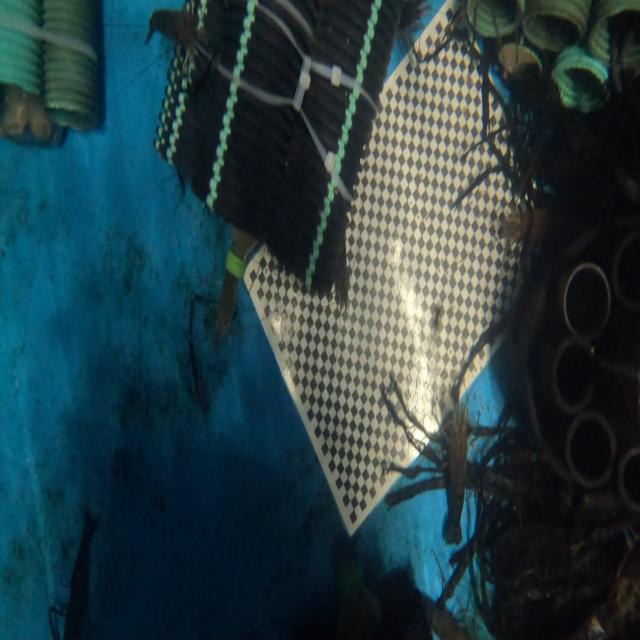prawn: (438, 404, 468, 544), (64, 513, 97, 639), (148, 7, 195, 44), (215, 270, 238, 337)
